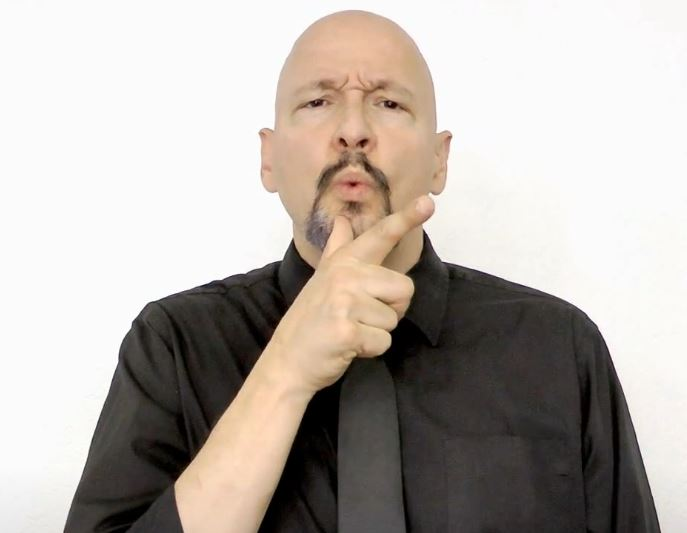who: (244, 169, 464, 375)
